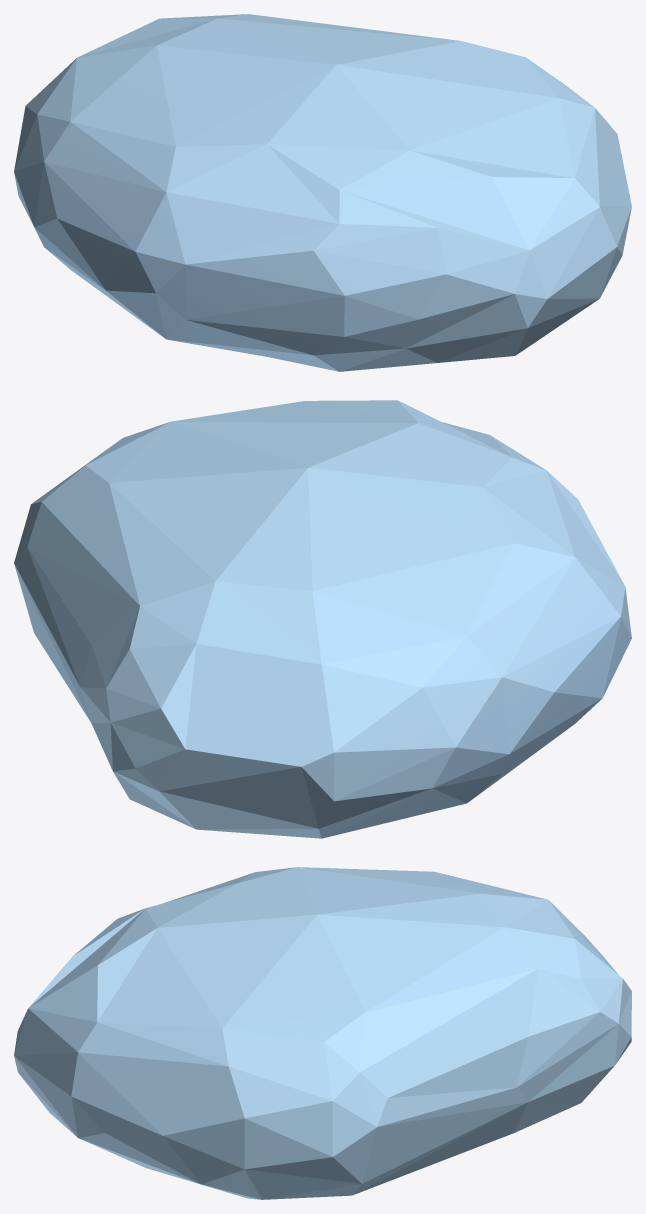
Rendered from Rock 15.FBX.
The picture shows the model from 3 angles, top to bottom: view 1: azimuth 30°, elevation 25°; view 2: azimuth 150°, elevation 25°; view 3: azimuth 270°, elevation 25°; orthographic projection. The views are drawn at different scales.
Visible parts, largest first — view 1: Box001; view 2: Box001; view 3: Box001.
Part boxes in pixels (left/top/right/bottom): Box001: left=14, top=14, right=631, bottom=371; Box001: left=14, top=400, right=631, bottom=838; Box001: left=14, top=867, right=631, bottom=1199.
Bounding box in the file's own units: 25.17 × 12.32 × 29.02.
